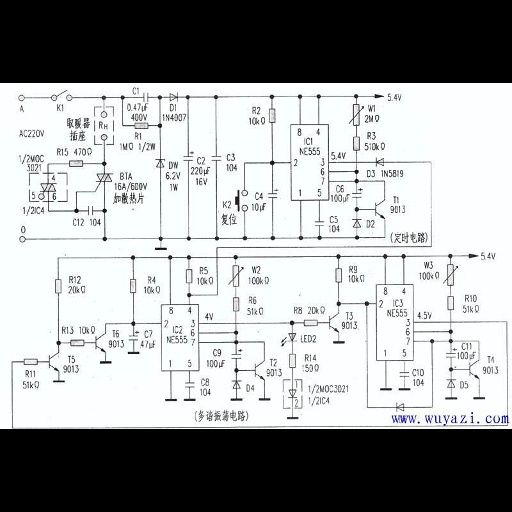capacitor: (312, 216, 325, 229), (397, 368, 410, 381), (140, 90, 152, 103), (85, 203, 96, 217), (183, 380, 196, 391), (211, 152, 221, 165)
firstpolarcapacitor: (180, 148, 195, 163), (266, 186, 280, 201), (350, 186, 365, 200), (443, 346, 457, 360), (231, 348, 244, 362), (127, 330, 140, 343)
firstresistance: (443, 294, 458, 314), (333, 263, 344, 286), (299, 318, 321, 329), (181, 266, 193, 286), (52, 277, 63, 298), (66, 338, 87, 349), (230, 295, 241, 315), (66, 158, 86, 169), (350, 135, 362, 153), (268, 106, 278, 126), (287, 353, 298, 371), (128, 277, 138, 296), (132, 122, 153, 131), (21, 358, 41, 367)
npn: (372, 196, 388, 220), (466, 360, 483, 382), (46, 351, 61, 375), (92, 333, 108, 355), (327, 311, 341, 335), (252, 360, 267, 382)
seconddiode: (393, 399, 408, 414), (372, 155, 388, 168), (348, 217, 363, 230), (166, 91, 182, 103), (230, 379, 243, 392), (446, 376, 456, 391), (287, 388, 299, 399)
secondled: (275, 330, 298, 347)
